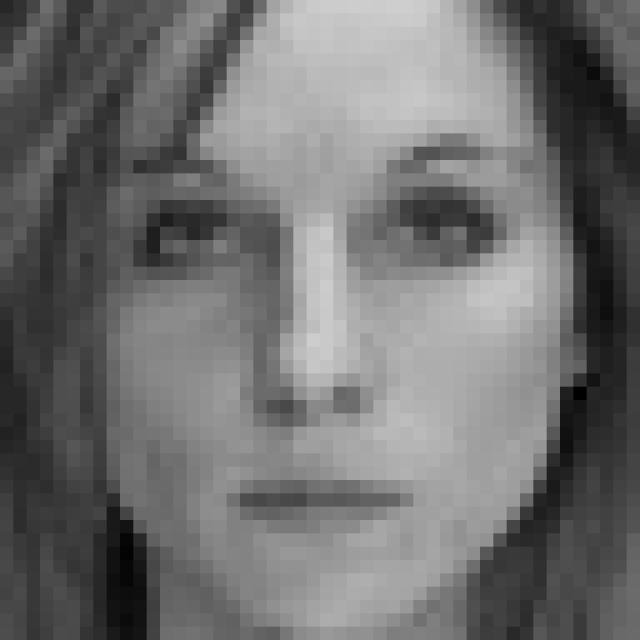neutral: (134, 135, 536, 544)
